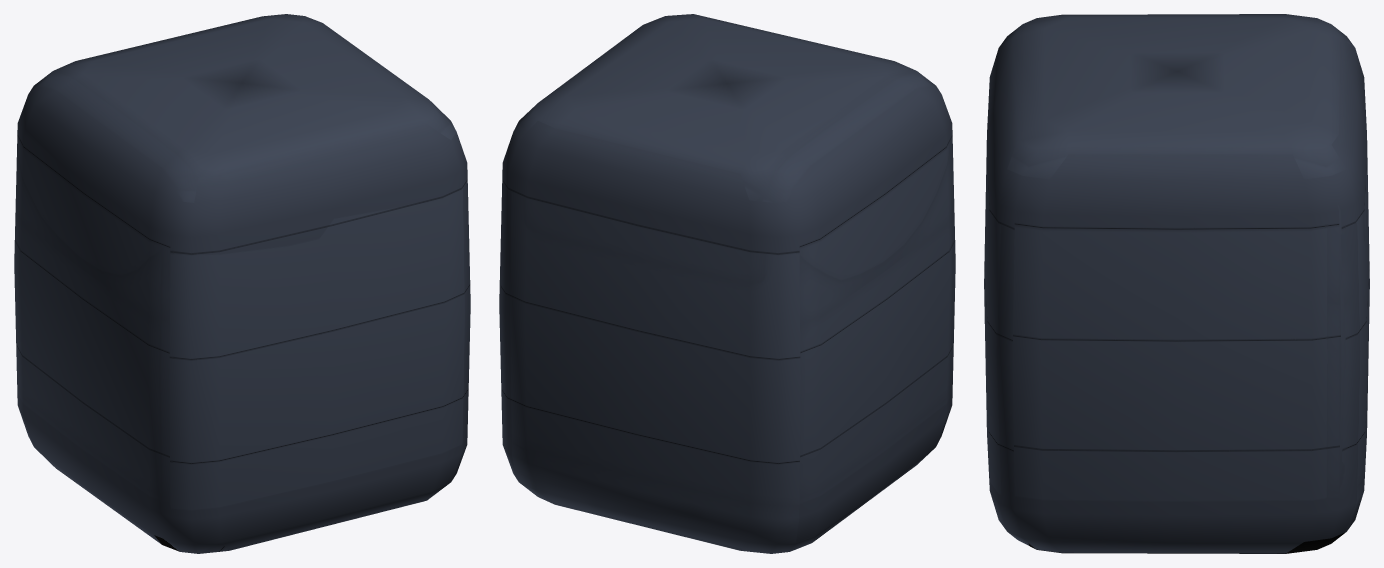
File: Remache_PiernaIzq.fbx
3 views of the same model, side by side, from view 1: azimuth 30°, elevation 25°; view 2: azimuth 150°, elevation 25°; view 3: azimuth 270°, elevation 25° (orthographic). The views are drawn at different scales.
Parts seen in each view (by area): view 1: Remache_PiernaIzq; view 2: Remache_PiernaIzq; view 3: Remache_PiernaIzq.
Part boxes in pixels (bbox=[...]): Remache_PiernaIzq: bbox=[14, 14, 470, 553]; Remache_PiernaIzq: bbox=[499, 14, 955, 553]; Remache_PiernaIzq: bbox=[984, 14, 1369, 553].
Size of the model in its own units: 1.8 by 2.15 by 1.77.
